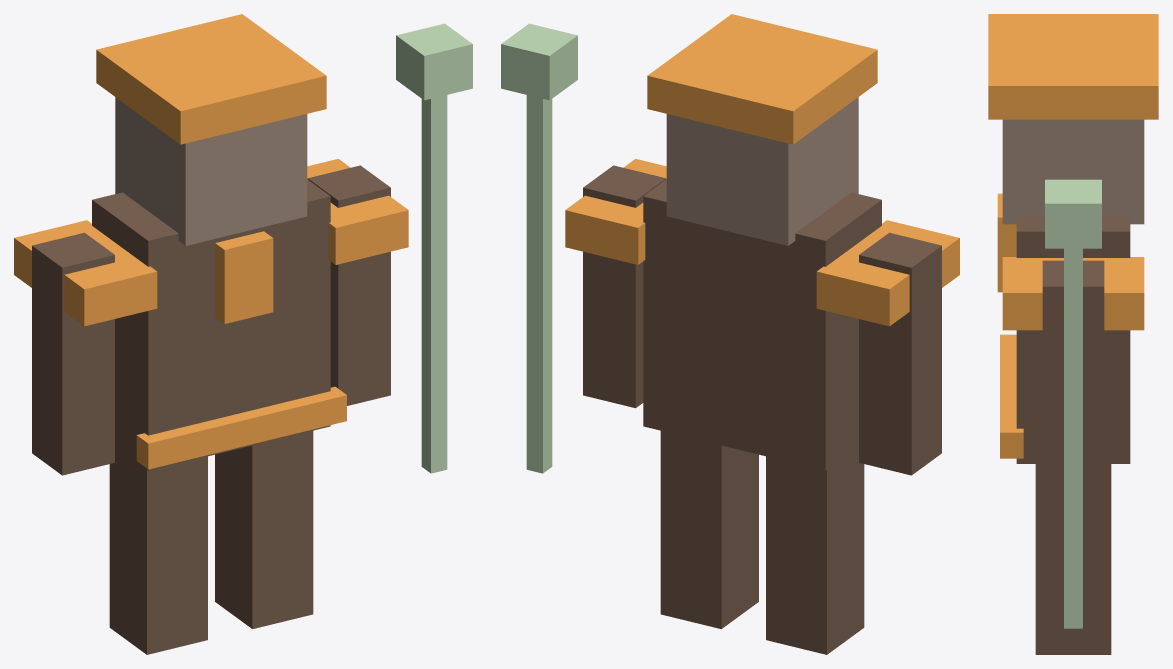
File: 07_bex_ashvein_captain_from_echo.glb
The picture shows the model from 3 angles, left to right: view 1: azimuth 30°, elevation 25°; view 2: azimuth 150°, elevation 25°; view 3: azimuth 270°, elevation 25°; orthographic projection.
Visible parts, largest first — view 1: Bex Ashvein, Captain from Echo; view 2: Bex Ashvein, Captain from Echo; view 3: Bex Ashvein, Captain from Echo.
Part boxes in pixels (x1=…): Bex Ashvein, Captain from Echo: x1=14, y1=14, x2=472, y2=654; Bex Ashvein, Captain from Echo: x1=501, y1=14, x2=959, y2=654; Bex Ashvein, Captain from Echo: x1=988, y1=14, x2=1158, y2=654.
Bounding box in the file's own units: 1.09 × 1.41 × 0.3862.
